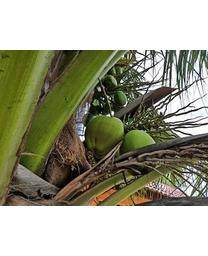coconut: (82, 110, 123, 157), (124, 129, 158, 159)
